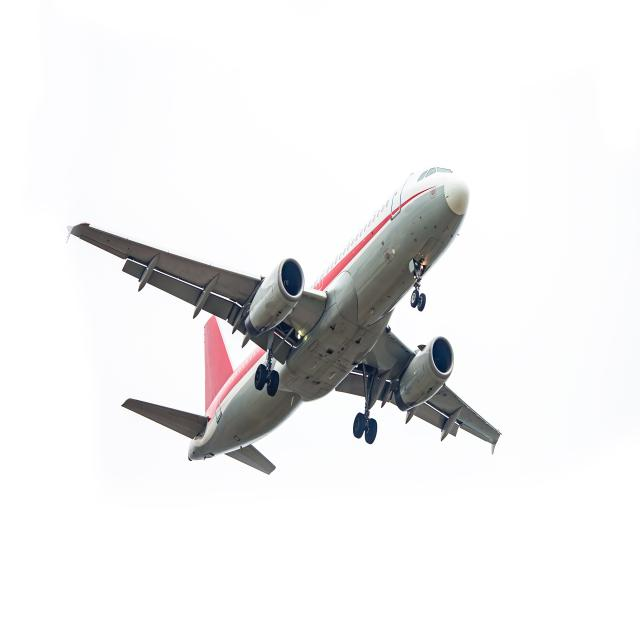plain: (51, 147, 512, 487)
